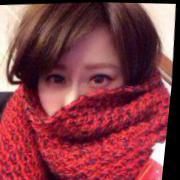WRONG: (33, 42, 133, 151)
